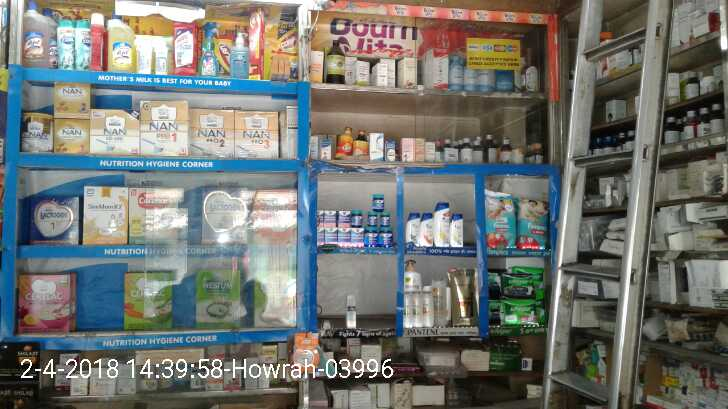vicks: (317, 194, 395, 244)
